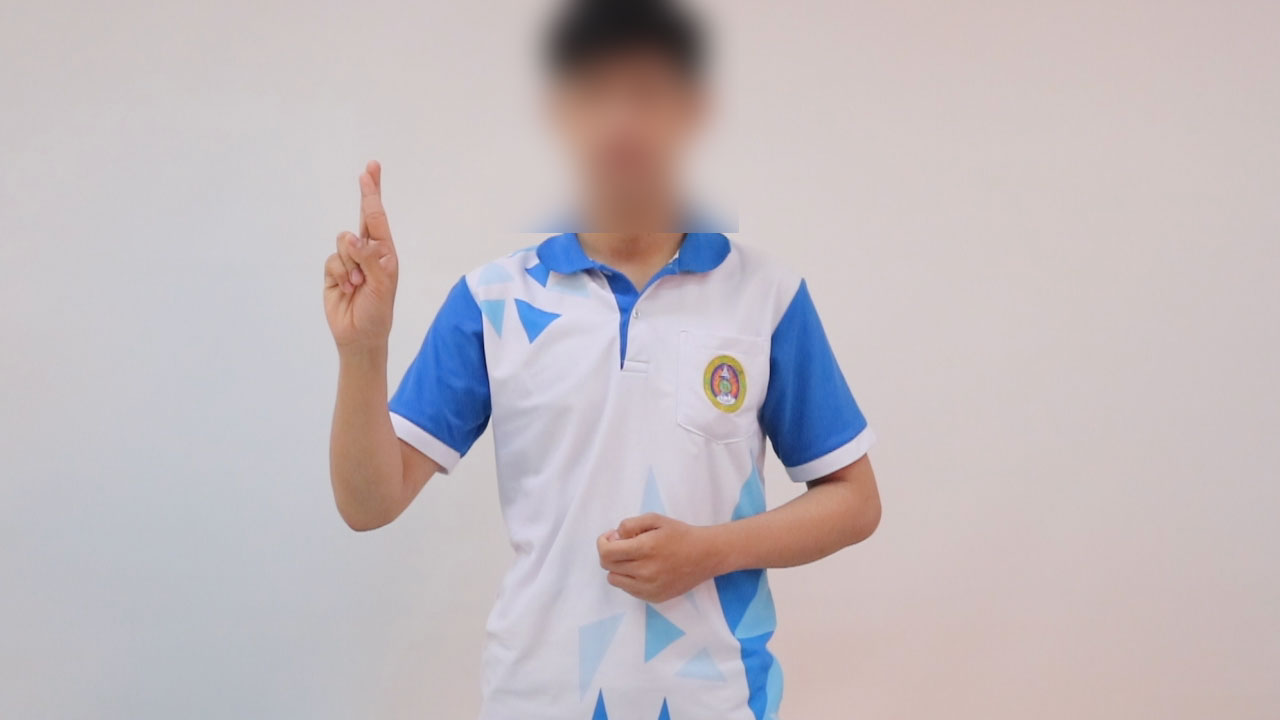rao: (305, 154, 418, 351)
